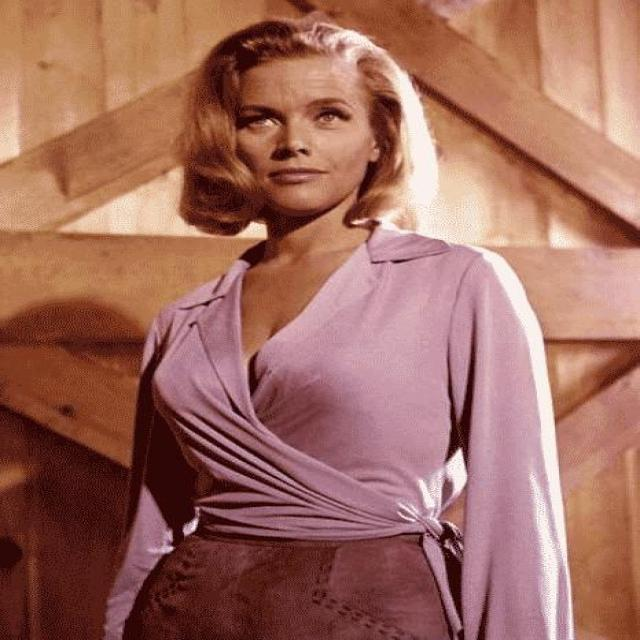mobile_phonerotation: (100, 15, 576, 638)
